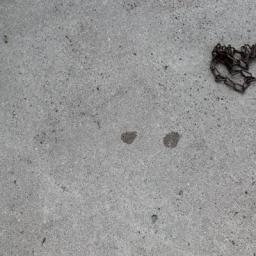FOD: (207, 37, 256, 97)
